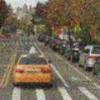cars: (13, 52, 52, 87)
